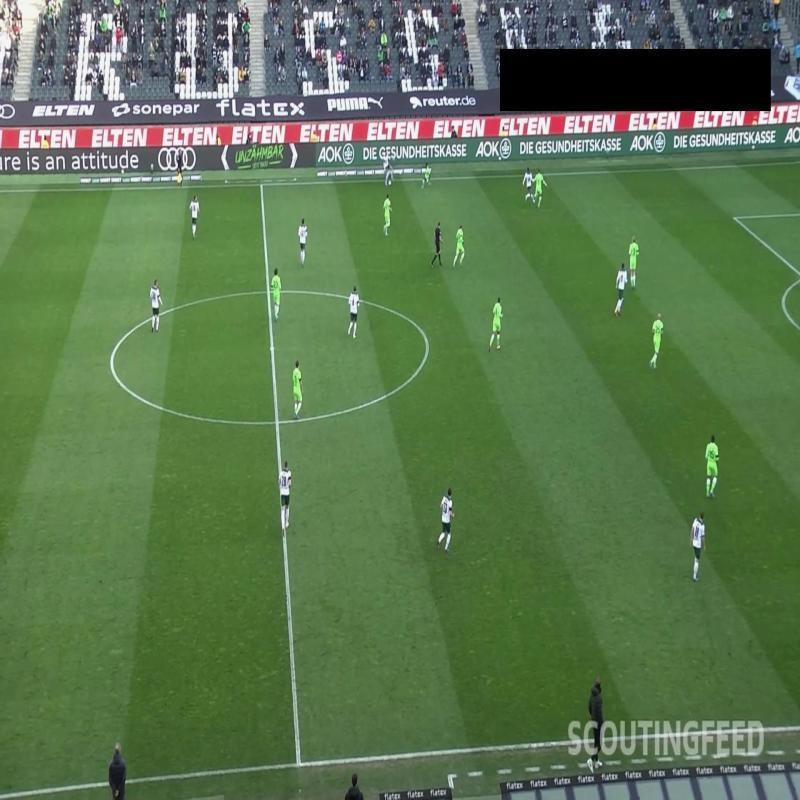13: (254, 177, 268, 191)
14: (261, 284, 275, 298)
15: (268, 414, 286, 428)
16: (290, 752, 308, 774)
9: (728, 210, 743, 224)
c: (420, 332, 436, 356), (104, 351, 118, 375)
